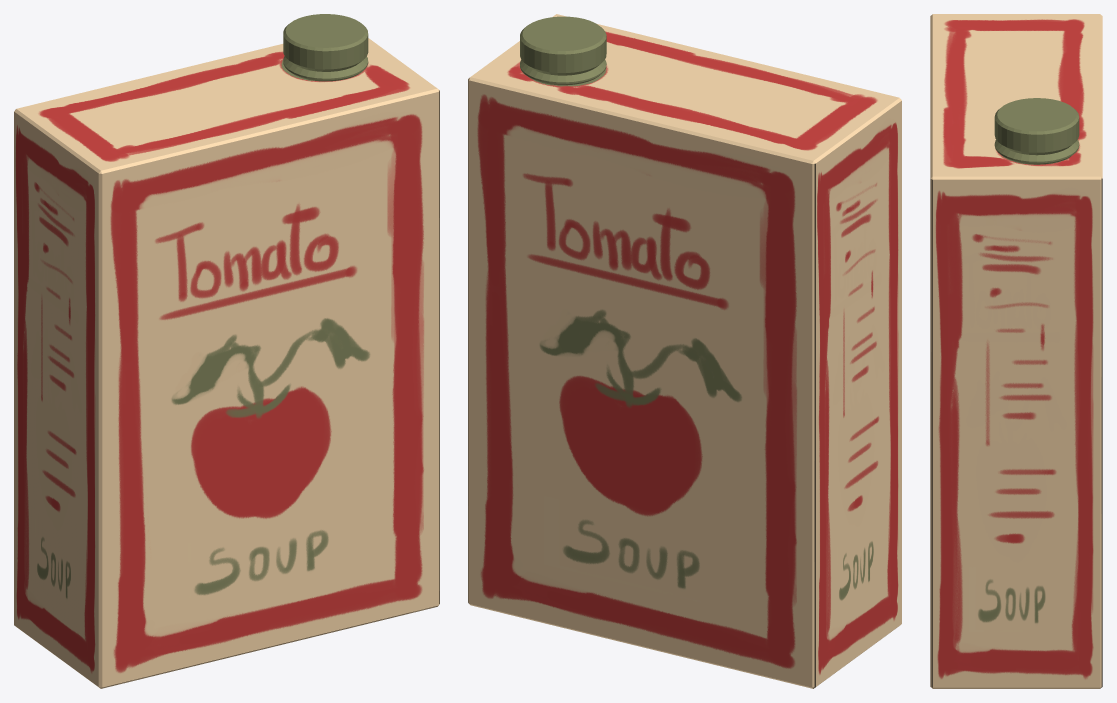
The model's file is Tomato_soop_001.glb.
3 renders of one model, left to right at view 1: azimuth 30°, elevation 25°; view 2: azimuth 150°, elevation 25°; view 3: azimuth 270°, elevation 25°, orthographic. The views are drawn at different scales.
Parts seen in each view (by area): view 1: Tomato_soop.001; view 2: Tomato_soop.001; view 3: Tomato_soop.001.
Part boxes in pixels (x1,y1,x2,y2): Tomato_soop.001: (14, 14, 439, 688); Tomato_soop.001: (468, 14, 901, 688); Tomato_soop.001: (930, 14, 1102, 688).
Bounding box in the file's own units: 0.4656 × 0.7197 × 0.206.
Materials: 1 (1 with a texture image).
